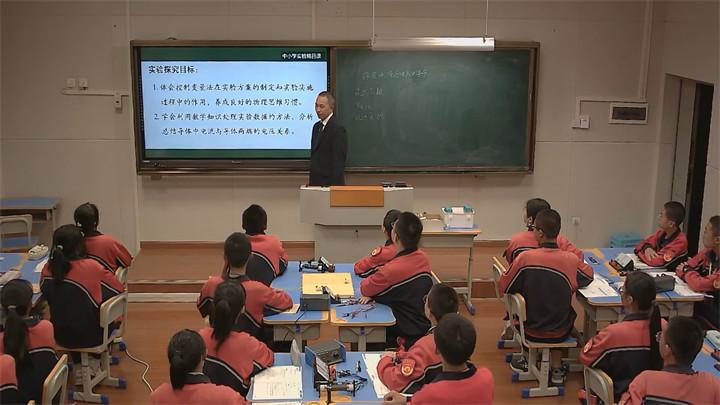listen: (521, 209, 575, 312), (48, 225, 95, 325), (431, 317, 480, 405), (606, 269, 659, 350), (161, 327, 219, 398), (206, 279, 250, 346), (654, 191, 687, 268), (391, 211, 424, 285), (220, 232, 256, 288)
